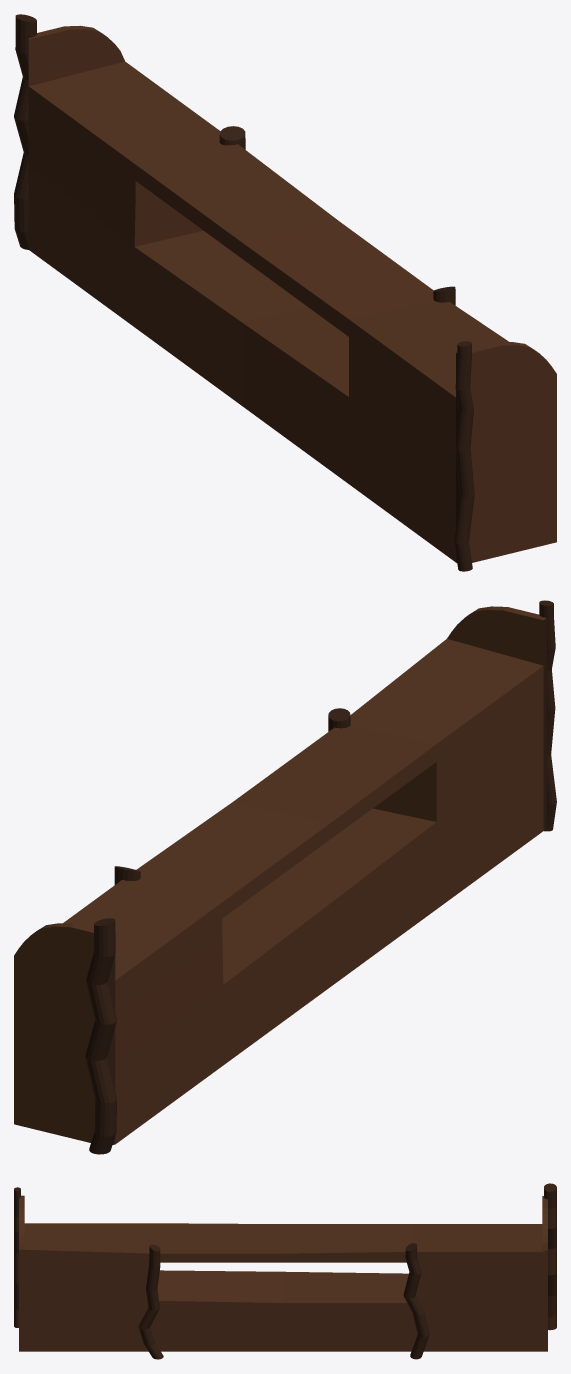
The model's file is Cardstand 1.fbx.
3 renders of one model, top to bottom at view 1: azimuth 30°, elevation 25°; view 2: azimuth 150°, elevation 25°; view 3: azimuth 270°, elevation 25°, orthographic. The views are drawn at different scales.
Parts seen in each view (by area): view 1: Cube; view 2: Cube; view 3: Cube.
Part boxes in pixels (x1,y1,x2,y2): Cube: [14, 14, 556, 571]; Cube: [14, 600, 556, 1154]; Cube: [14, 1183, 556, 1359].
Size of the model in its own units: 143 by 281 by 965.
